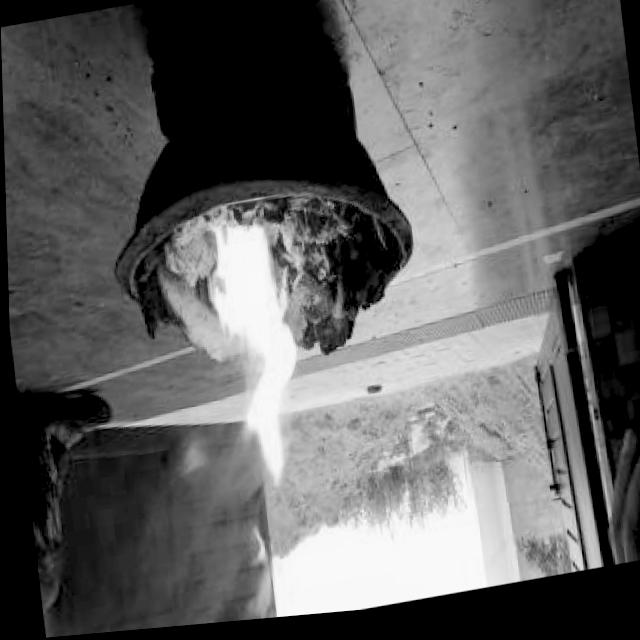Smoke: (196, 217, 315, 513), (168, 425, 215, 485)
